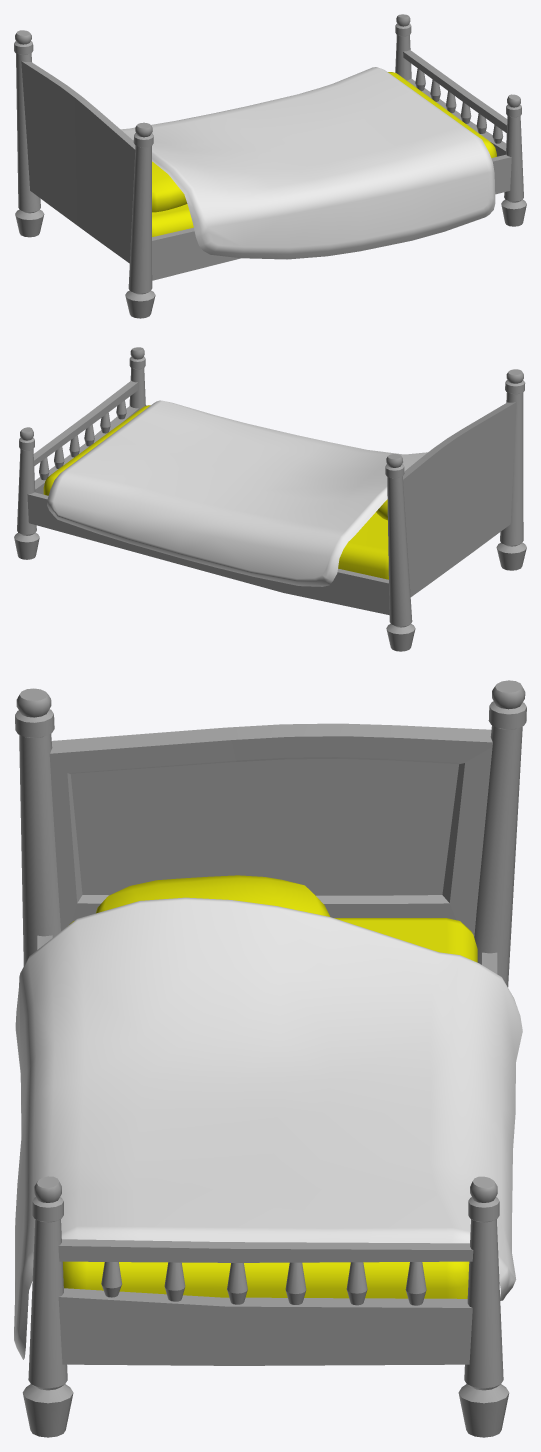
File: BedRoom_Bed.fbx
3 views of the same model, one above another, from view 1: azimuth 30°, elevation 25°; view 2: azimuth 150°, elevation 25°; view 3: azimuth 270°, elevation 25° (orthographic). The views are drawn at different scales.
Visible parts, largest first — view 1: BedRoom_Bed; view 2: BedRoom_Bed; view 3: BedRoom_Bed.
Part boxes in pixels (left/top/right/bottom): BedRoom_Bed: left=14, top=14, right=526, bottom=318; BedRoom_Bed: left=14, top=347, right=526, bottom=651; BedRoom_Bed: left=14, top=680, right=526, bottom=1437.
Size of the model in its own units: 346 by 162 by 196.
